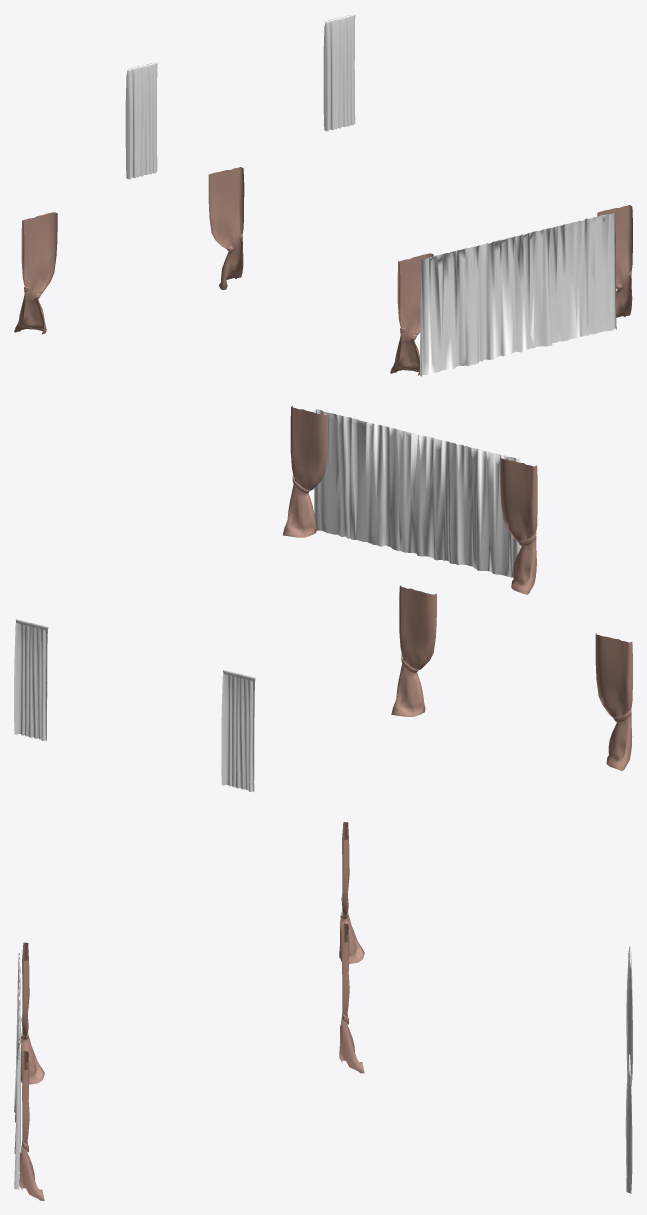
File: CombinedMesh-MeshBaker (7)-mesh.fbx
3 renders of one model, top to bottom at view 1: azimuth 30°, elevation 25°; view 2: azimuth 150°, elevation 25°; view 3: azimuth 270°, elevation 25°, orthographic. The views are drawn at different scales.
Parts seen in each view (by area): view 1: MeshBaker__7__mesh_mesh; view 2: MeshBaker__7__mesh_mesh; view 3: MeshBaker__7__mesh_mesh.
Boxes of the visible parts, x1=… form: MeshBaker__7__mesh_mesh: x1=14, y1=14, x2=632, y2=376; MeshBaker__7__mesh_mesh: x1=14, y1=405, x2=632, y2=792; MeshBaker__7__mesh_mesh: x1=14, y1=822, x2=632, y2=1200.
Bounding box in the file's own units: 1019 × 257 × 1043.
